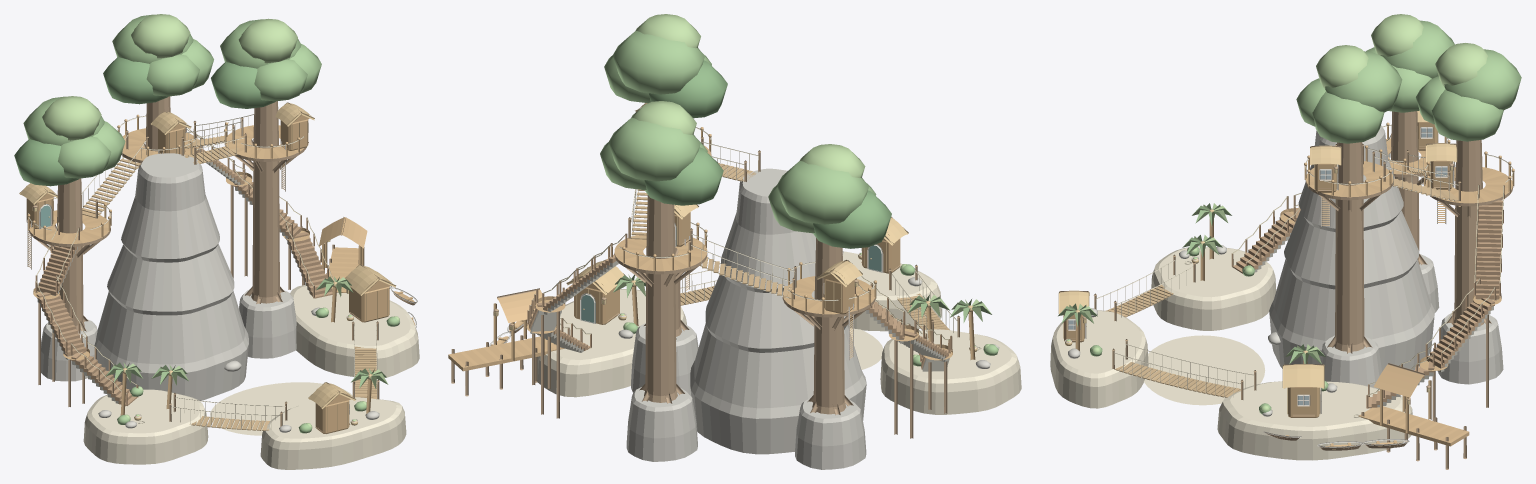
File: cabanes.glb
The picture shows the model from 3 angles, left to right: view 1: azimuth 30°, elevation 25°; view 2: azimuth 150°, elevation 25°; view 3: azimuth 270°, elevation 25°; orthographic projection. The views are drawn at different scales.
Visible parts, largest first — view 1: cabanes; view 2: cabanes; view 3: cabanes.
Boxes of the visible parts, x1,y1,x2,y2 form: cabanes: (14, 14, 419, 469); cabanes: (448, 14, 1021, 469); cabanes: (1050, 14, 1521, 469).
Bounding box in the file's own units: 25.88 × 21.18 × 25.66.
